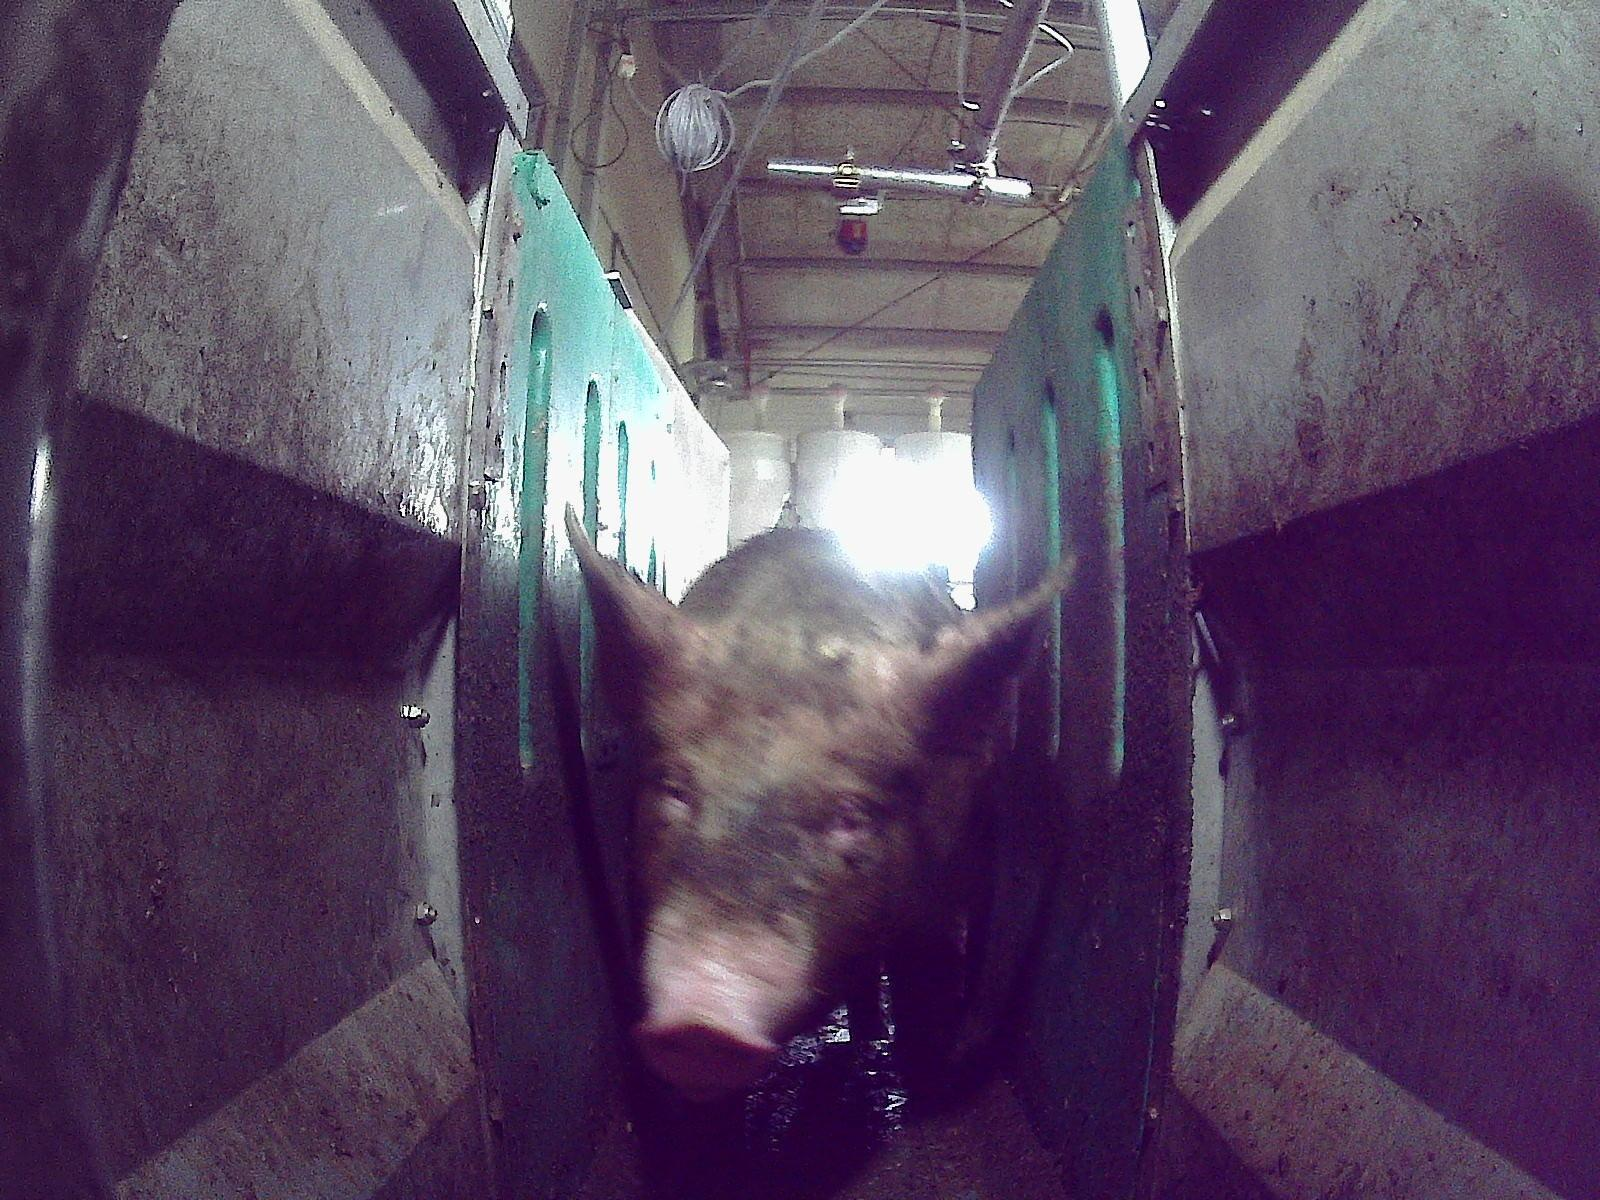Face: (631, 646, 933, 1095)
